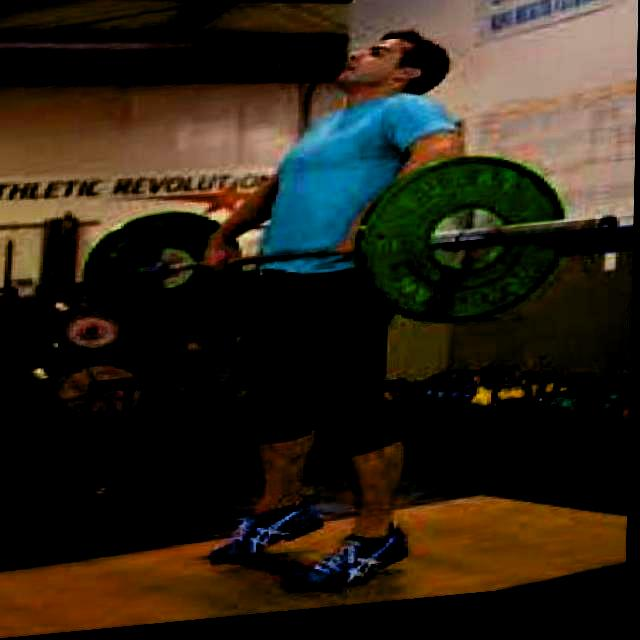barbell: (357, 153, 629, 342)
